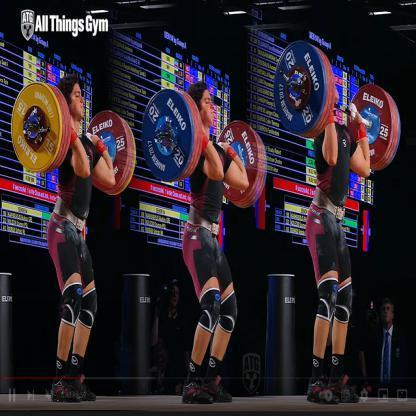barbell: (272, 38, 403, 170), (141, 86, 268, 209), (9, 79, 138, 200)
